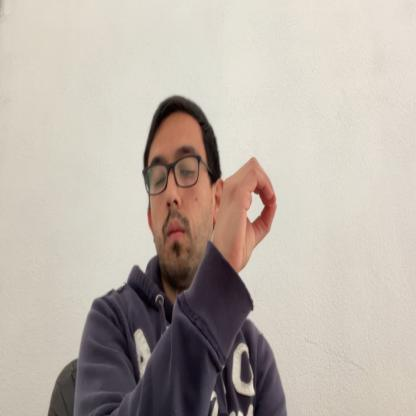O: (216, 156, 277, 267)
